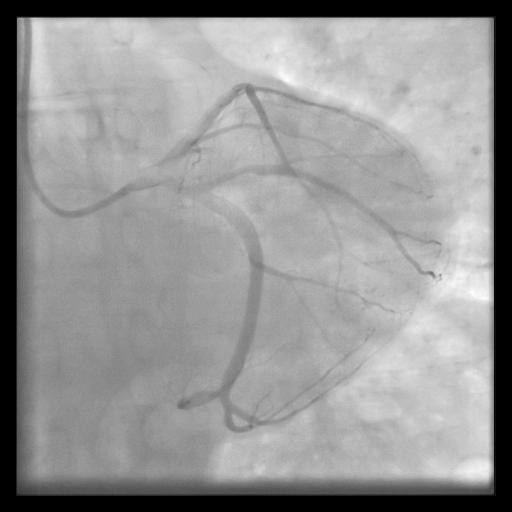Stenosis: (205, 169, 261, 186)
